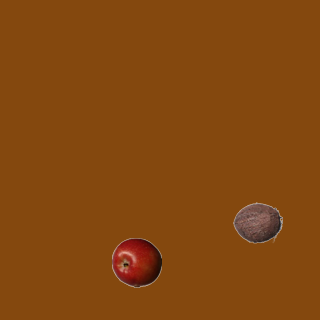Apple Braeburn: (111, 237, 161, 287)
Cocos: (232, 197, 282, 247)
